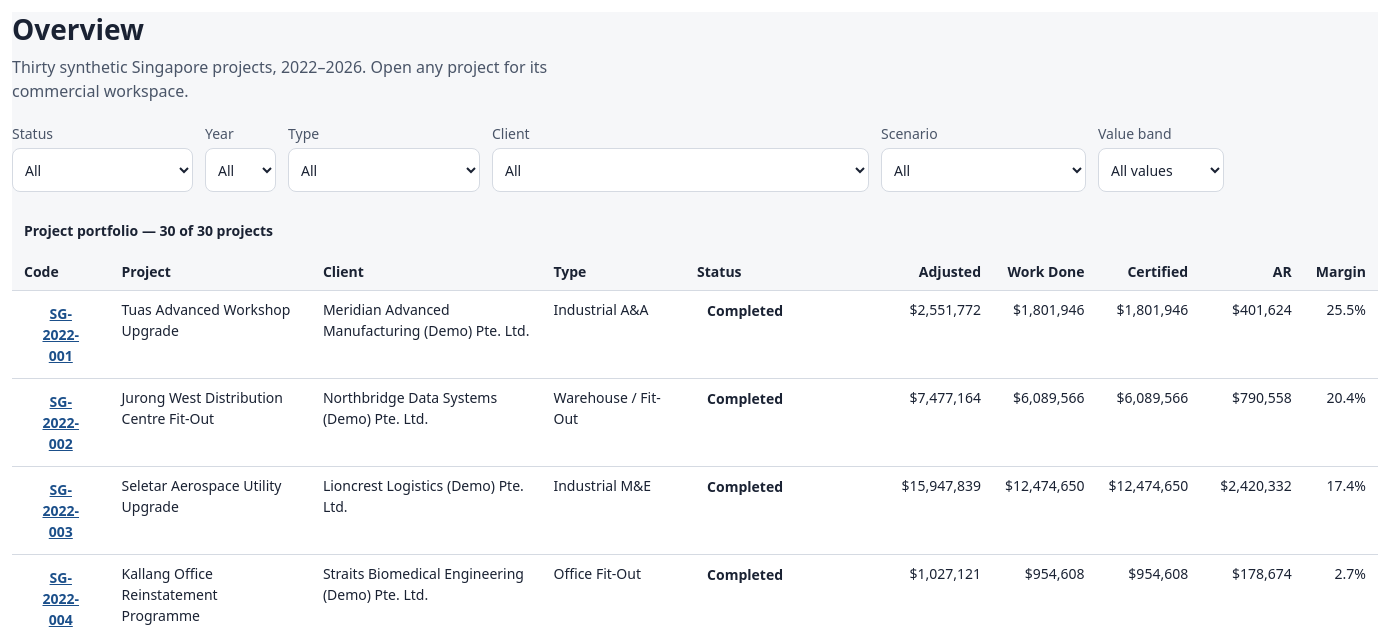
Scenario: PortfolioView (TASK-004) › filters by status
The width and height of the screenshot is (1378, 635).
Select "Completed" in the dropdown labelled "Status". click: (102, 170)
box: [12,148,193,192]
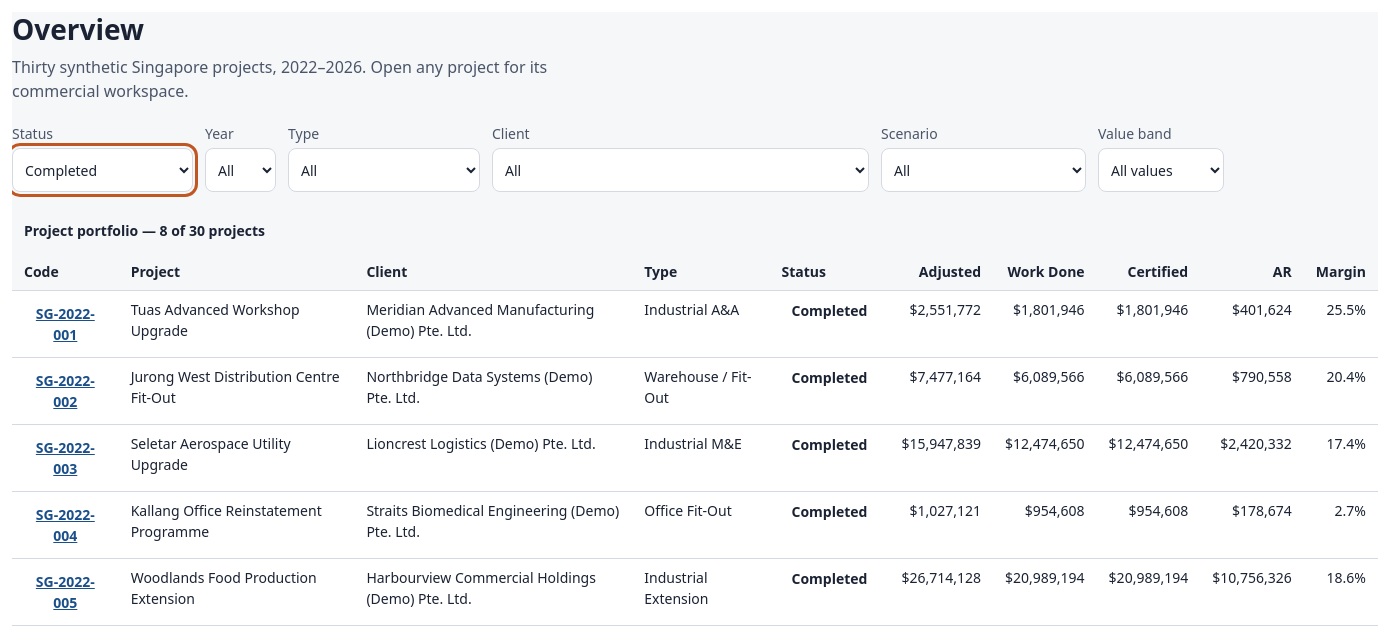
expect the text "Project portfolio — 8 of 30 projects" is shown: met, box [24,221,265,240]
